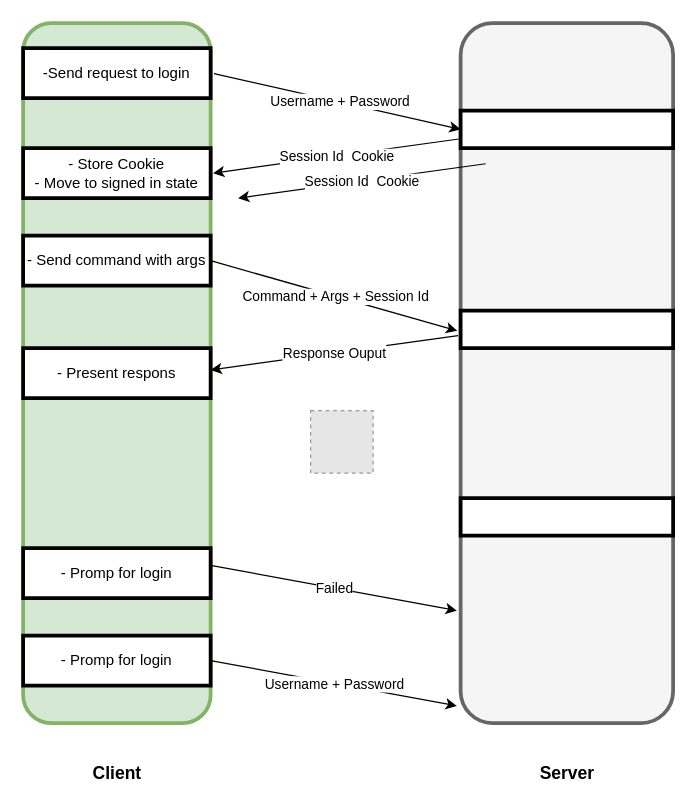
This 696x808 diagram has some shape labels left out. Grey dashed boxes stand in for pictures. The shapes that lost their labels are listed below. From the top down, each one's centre as x and y in pixels, then its label:
At (x=566, y=128): "- Authenticate User - Create Session".
At (x=566, y=328): "- Sanitize Inputs - Process Request".
At (x=566, y=516): "- Session Timeout (1hr)".
